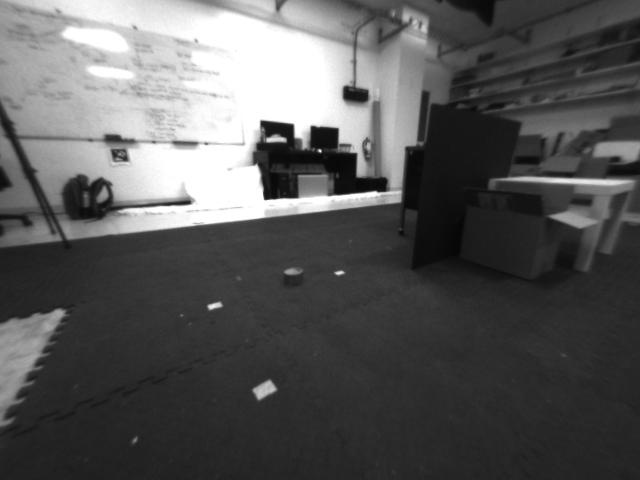dogtoy: (270, 255, 316, 301)
